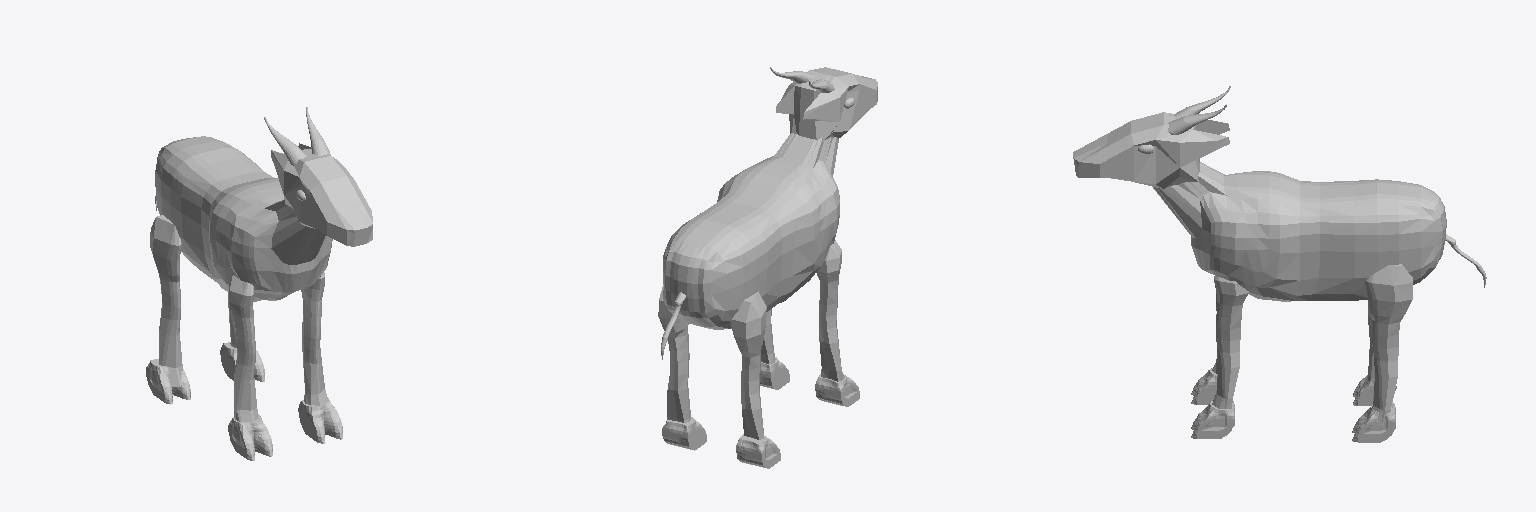
File: goat.obj
The picture shows the model from 3 angles: view 1: azimuth 30°, elevation 25°; view 2: azimuth 150°, elevation 25°; view 3: azimuth 270°, elevation 25°; orthographic projection.
Visible parts, largest first — view 1: pCube7, polySurface10, pCube6, polySurface14 group2 polySurface5, group2 polySurface5 polySurface13, polySurface5 polySurface12, pCylinder4; view 2: pCube7, polySurface10, pCube6, polySurface14 group2 polySurface5, polySurface5 polySurface11, group2 polySurface5 polySurface13, polySurface5 polySurface12; view 3: pCube7, pCube6, polySurface10, polySurface5 polySurface11, polySurface5 polySurface12, pCylinder5.
Boxes of the visible parts, box(x1,y1,x2,y2) form: pCube7: box(155, 136, 332, 301); polySurface10: box(228, 273, 342, 460); pCube6: box(271, 143, 372, 246); polySurface14 group2 polySurface5: box(150, 215, 182, 386); group2 polySurface5 polySurface13: box(146, 359, 190, 404); polySurface5 polySurface12: box(220, 342, 264, 381); pCylinder4: box(264, 117, 306, 165); pCube7: box(663, 133, 839, 329); polySurface10: box(760, 240, 859, 406); pCube6: box(776, 67, 877, 141); polySurface14 group2 polySurface5: box(730, 291, 766, 439); polySurface5 polySurface11: box(658, 284, 690, 422); group2 polySurface5 polySurface13: box(736, 434, 780, 468); polySurface5 polySurface12: box(662, 417, 706, 450); pCube7: box(1153, 162, 1446, 301); pCube6: box(1073, 112, 1229, 188); polySurface10: box(1191, 276, 1248, 438); polySurface5 polySurface11: box(1365, 264, 1412, 426); polySurface5 polySurface12: box(1352, 402, 1395, 442); pCylinder5: box(1168, 104, 1226, 134).
Size of the model in its own units: 0.6332 by 1.9 by 2.18.